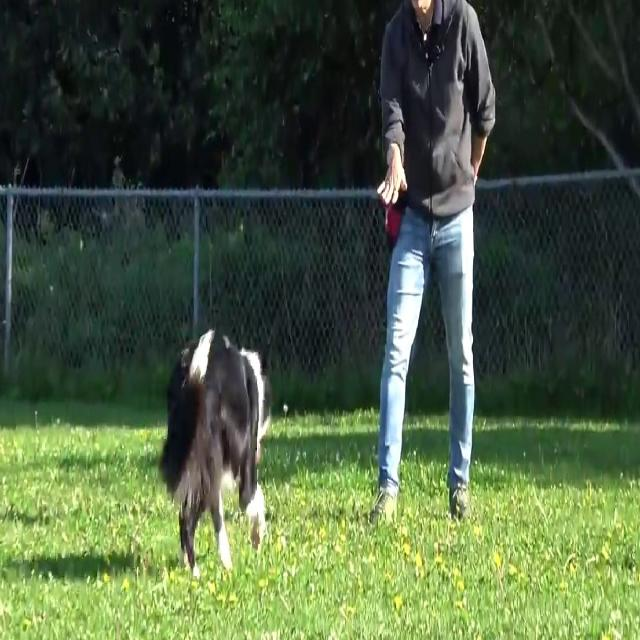Unleashed_Dog: (158, 210, 434, 579)
